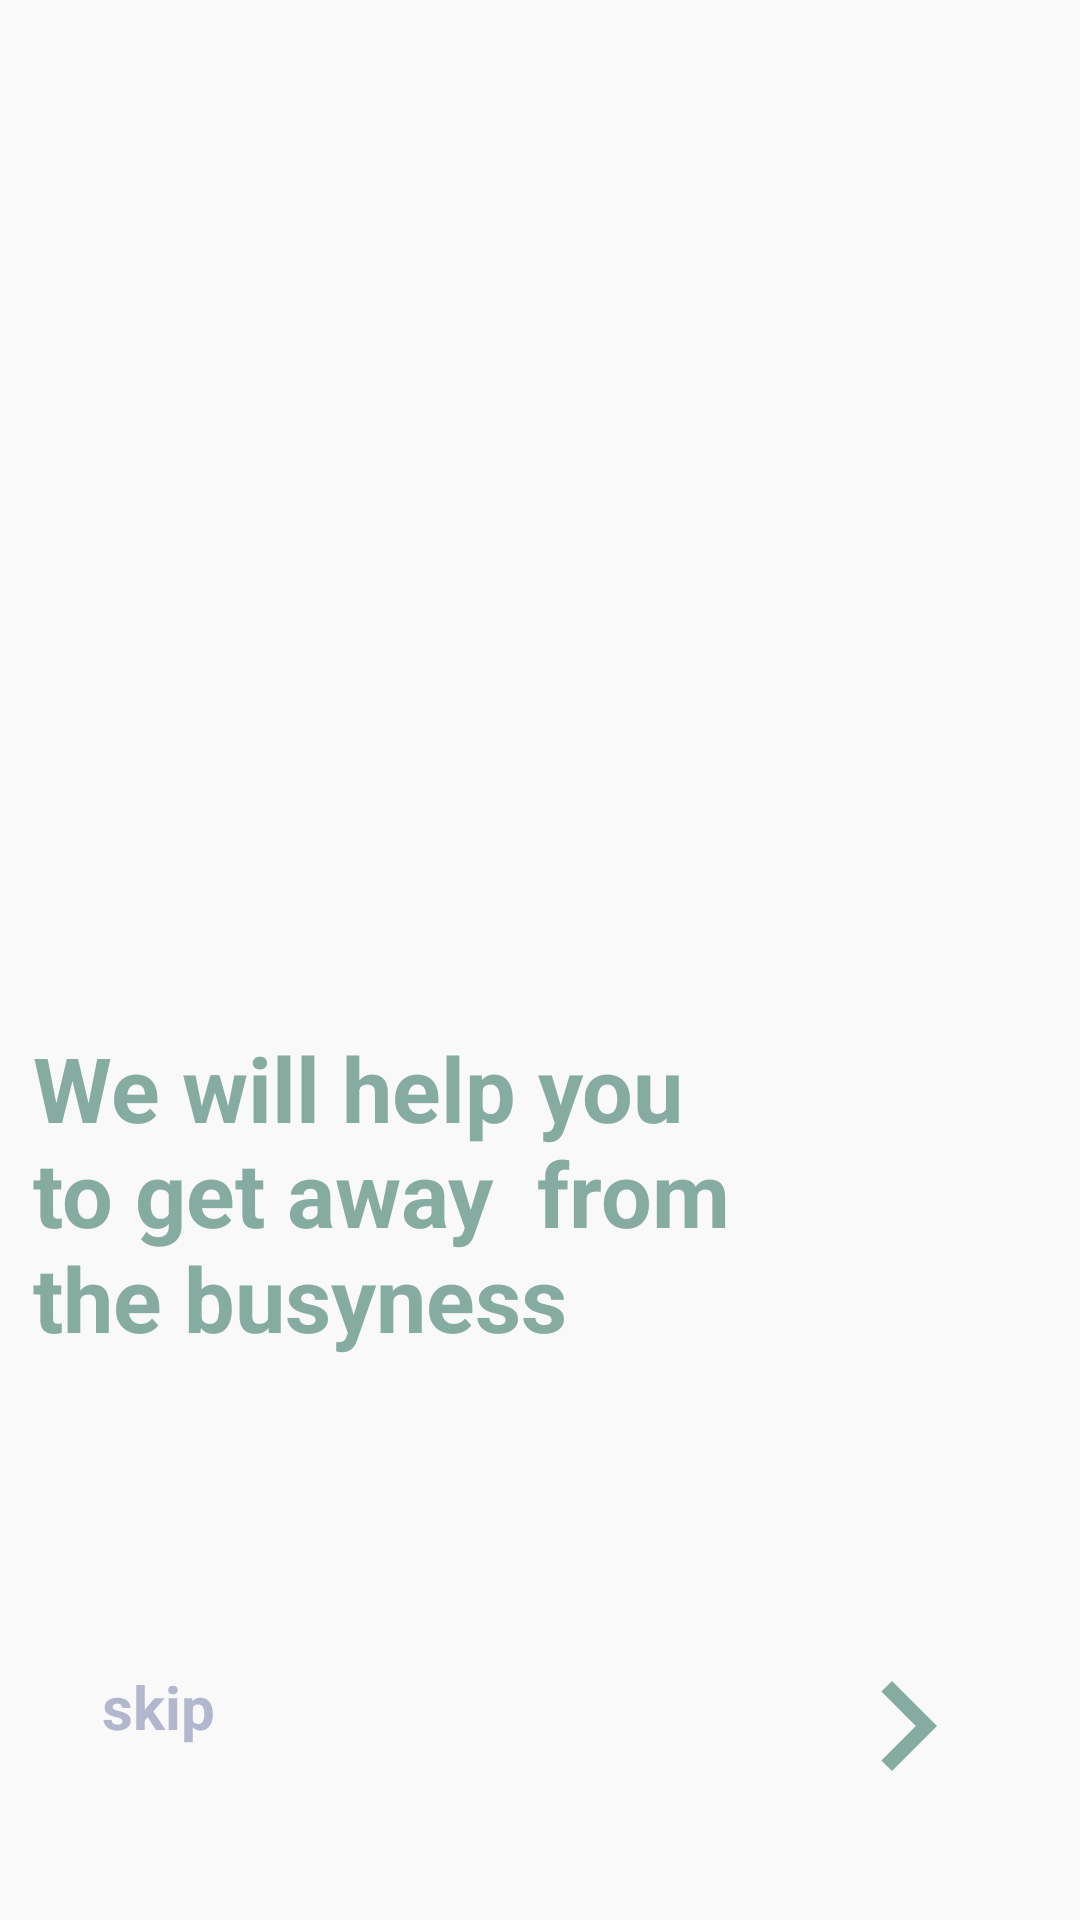

Point at icon controls on the screen. Image size 1080w x 1920h, points as point (x, y).
navigate next: point (909, 1726)
